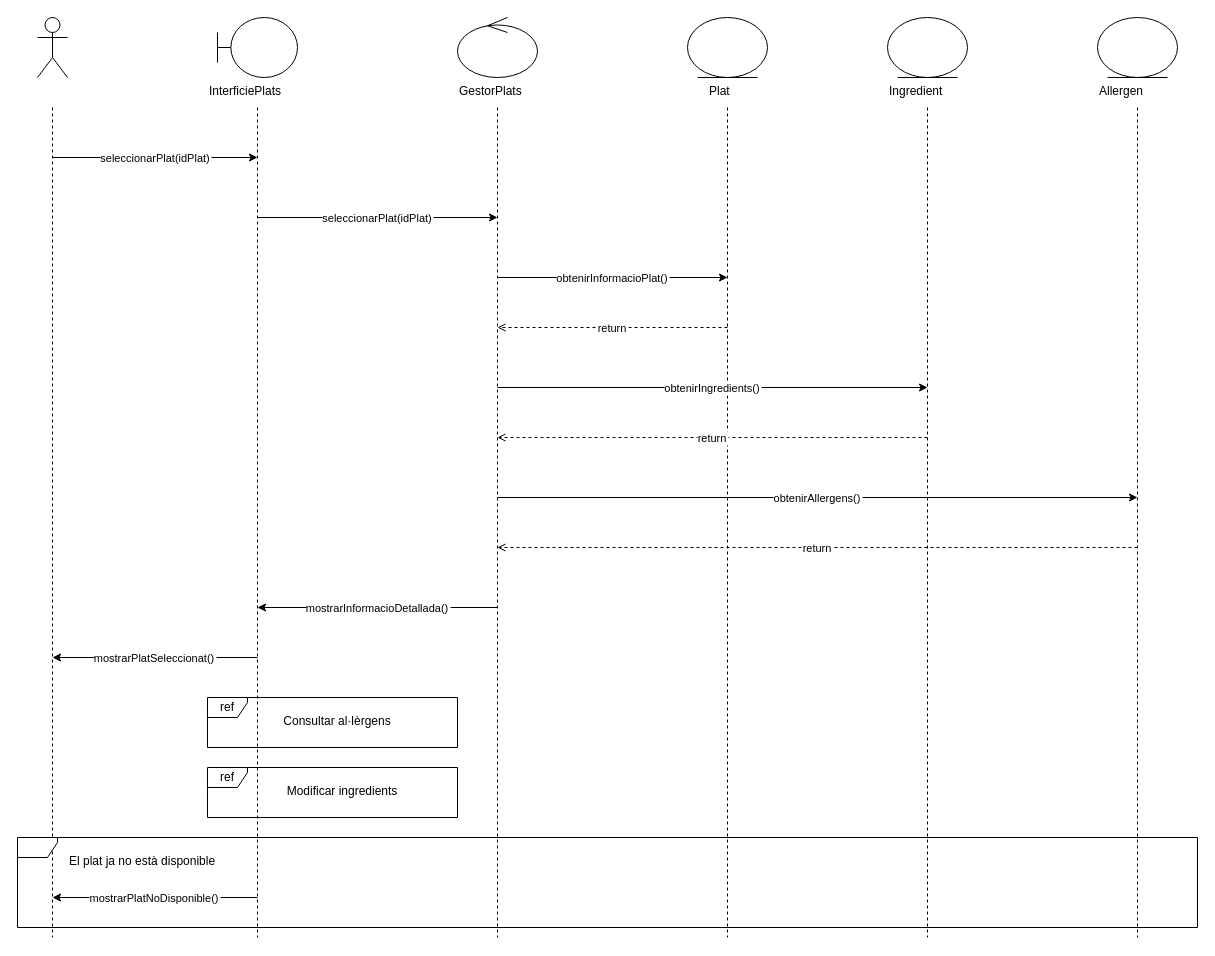
The diagram is 1215 pixels wide and 956 high, and some of its shapes have lost their labels. The shapes that lost their labels are listed below. From the top down, each one's box as (x1, y1, x2, y2) in pixels, then its label:
(36, 16, 68, 78): Client
(16, 836, 1198, 928): alt
